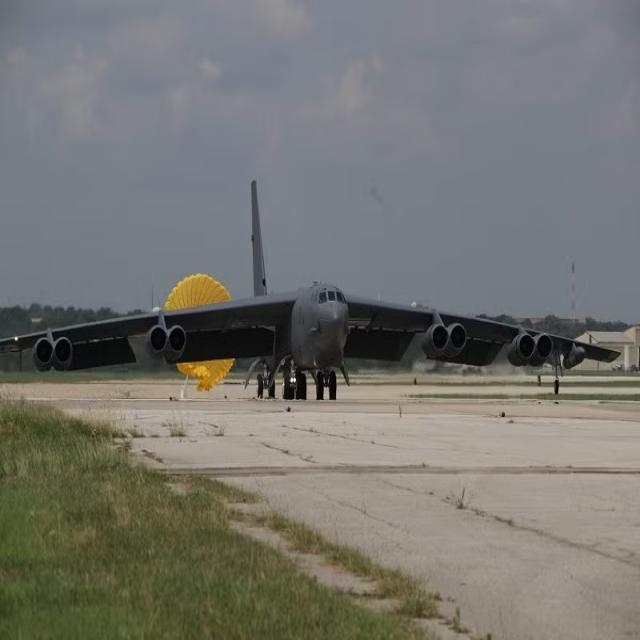B52: (4, 139, 640, 431)
